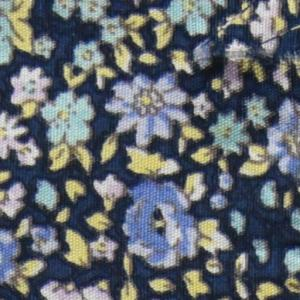Damage: (160, 1, 300, 88)
Wrinkle: (72, 230, 300, 292)
